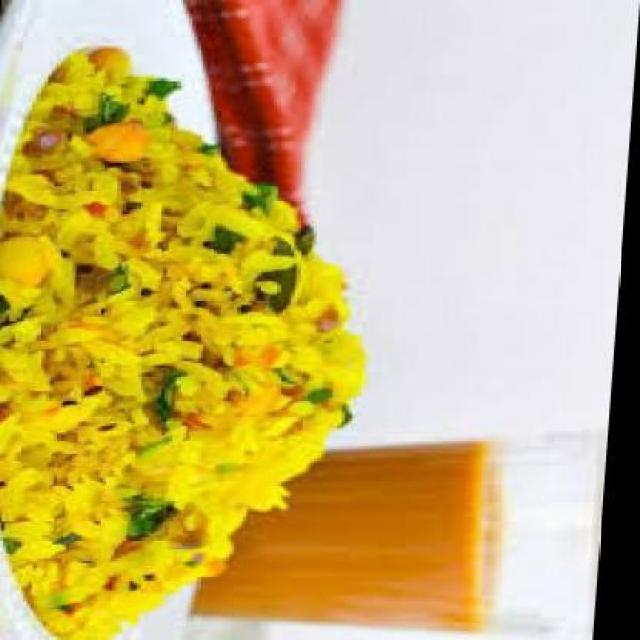poha: (0, 46, 389, 640)
